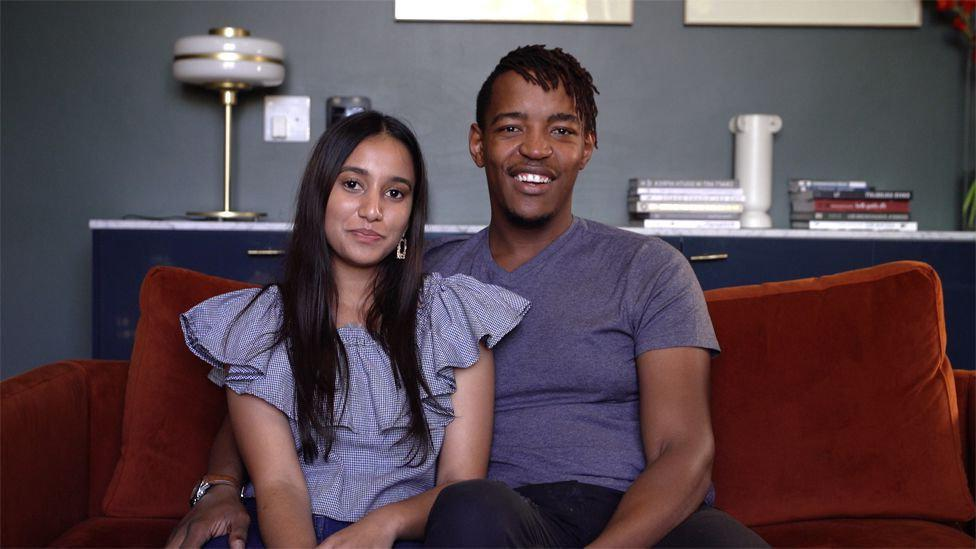Sober: (490, 77, 584, 215), (328, 134, 410, 259)
